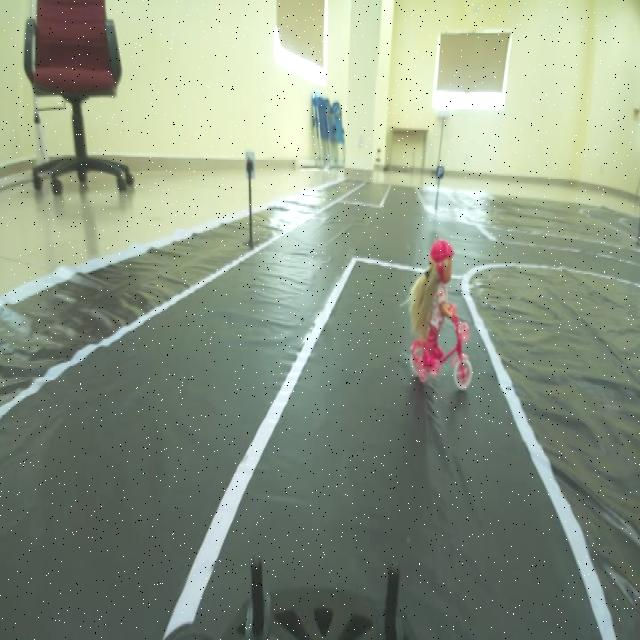pedestrian: (406, 238, 474, 394)
